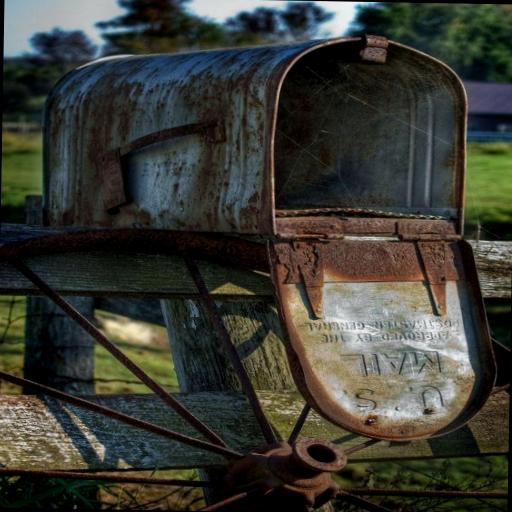segmentation: (239, 34, 466, 234), (268, 217, 474, 437), (10, 259, 223, 444), (0, 370, 236, 460), (58, 84, 145, 227), (2, 229, 272, 274), (93, 120, 224, 211), (208, 440, 347, 512), (160, 147, 230, 233), (174, 72, 265, 118), (0, 469, 177, 486), (346, 489, 507, 500)
